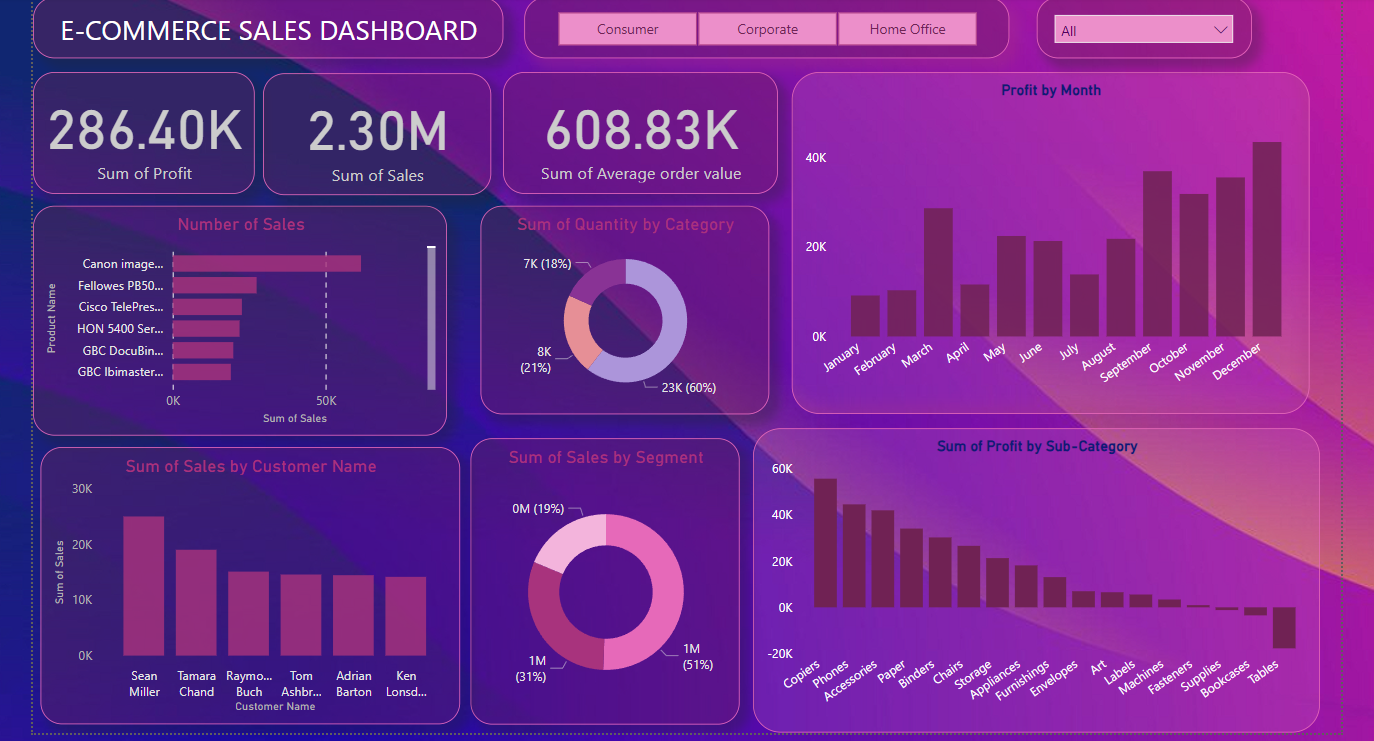

This screenshot's page, from the dashboard's own definition file:
{"tool":"powerbi","page":{"name":"Page 1","canvas":[1280,720],"ordinal":0},"visuals":[{"type":"textbox","box":[0,0,460,60],"z":0},{"type":"columnChart","title":"Profit by Month","fields":{"Y":["65dda65755a36_Superstore_2023.Profit"],"Category":["65dda65755a36_Superstore_2023.Order Date.Variation.Date Hierarchy.Month"]},"box":[742,73,506,334],"z":1000},{"type":"barChart","title":"Number of Sales","fields":{"Category":["65dda65755a36_Superstore_2023.Product Name"],"Y":["65dda65755a36_Superstore_2023.Sales"]},"box":[0,204,405,225],"z":2000},{"type":"columnChart","fields":{"Category":["65dda65755a36_Superstore_2023.Sub-Category"],"Y":["65dda65755a36_Superstore_2023.Profit"]},"box":[704.4,422.2,554.4,297.8],"z":3000},{"type":"donutChart","fields":{"Y":["65dda65755a36_Superstore_2023.Quantity"],"Category":["65dda65755a36_Superstore_2023.Category"]},"box":[438,204,282,204],"z":4000},{"type":"donutChart","fields":{"Category":["65dda65755a36_Superstore_2023.Segment"],"Y":["65dda65755a36_Superstore_2023.Sales"]},"box":[427.8,431.1,263.3,280],"z":5000},{"type":"card","fields":{"Values":["65dda65755a36_Superstore_2023.Profit"]},"box":[0,73,217,119],"z":6000},{"type":"card","fields":{"Values":["65dda65755a36_Superstore_2023.Sales"]},"box":[225,74,223,119],"z":7000},{"type":"card","fields":{"Values":["65dda65755a36_Superstore_2023.Average order value"]},"box":[460,73,269,119],"z":8000},{"type":"columnChart","fields":{"Category":["65dda65755a36_Superstore_2023.Customer Name"],"Y":["65dda65755a36_Superstore_2023.Sales"]},"box":[7,440,410,271],"z":9000},{"type":"slicer","fields":{"Values":["65dda65755a36_Superstore_2023.Segment"]},"box":[481,0,474,60],"z":10000},{"type":"slicer","fields":{"Values":["65dda65755a36_Superstore_2023.City"]},"box":[982,0,210,60],"z":10001}]}

Visuals, with their boxes on the page's 1280x720 design canvas (x1, y1, x2, y2). These are canvas units, not pixel positions in the 1374x741 screenshot, which may show the page scaled, cropped or inside an application window:
textbox: rect(0, 0, 460, 60)
"Profit by Month" columnChart: rect(742, 73, 1248, 407)
"Number of Sales" barChart: rect(0, 204, 405, 429)
columnChart - 65dda65755a36_Superstore_2023.Sub-Category x 65dda65755a36_Superstore_2023.Profit: rect(704, 422, 1259, 720)
donutChart - 65dda65755a36_Superstore_2023.Quantity x 65dda65755a36_Superstore_2023.Category: rect(438, 204, 720, 408)
donutChart - 65dda65755a36_Superstore_2023.Segment x 65dda65755a36_Superstore_2023.Sales: rect(428, 431, 691, 711)
card - 65dda65755a36_Superstore_2023.Profit: rect(0, 73, 217, 192)
card - 65dda65755a36_Superstore_2023.Sales: rect(225, 74, 448, 193)
card - 65dda65755a36_Superstore_2023.Average order value: rect(460, 73, 729, 192)
columnChart - 65dda65755a36_Superstore_2023.Customer Name x 65dda65755a36_Superstore_2023.Sales: rect(7, 440, 417, 711)
slicer - 65dda65755a36_Superstore_2023.Segment: rect(481, 0, 955, 60)
slicer - 65dda65755a36_Superstore_2023.City: rect(982, 0, 1192, 60)
